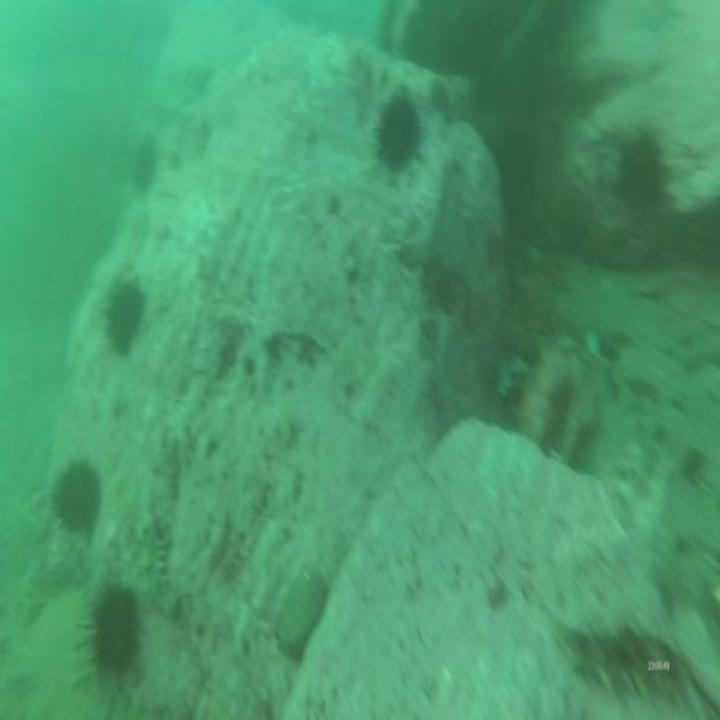echinus: (94, 592, 138, 668), (379, 93, 419, 167), (618, 140, 659, 212), (56, 466, 100, 533), (107, 290, 143, 348)
holothurian: (559, 626, 679, 706), (150, 522, 180, 620)
